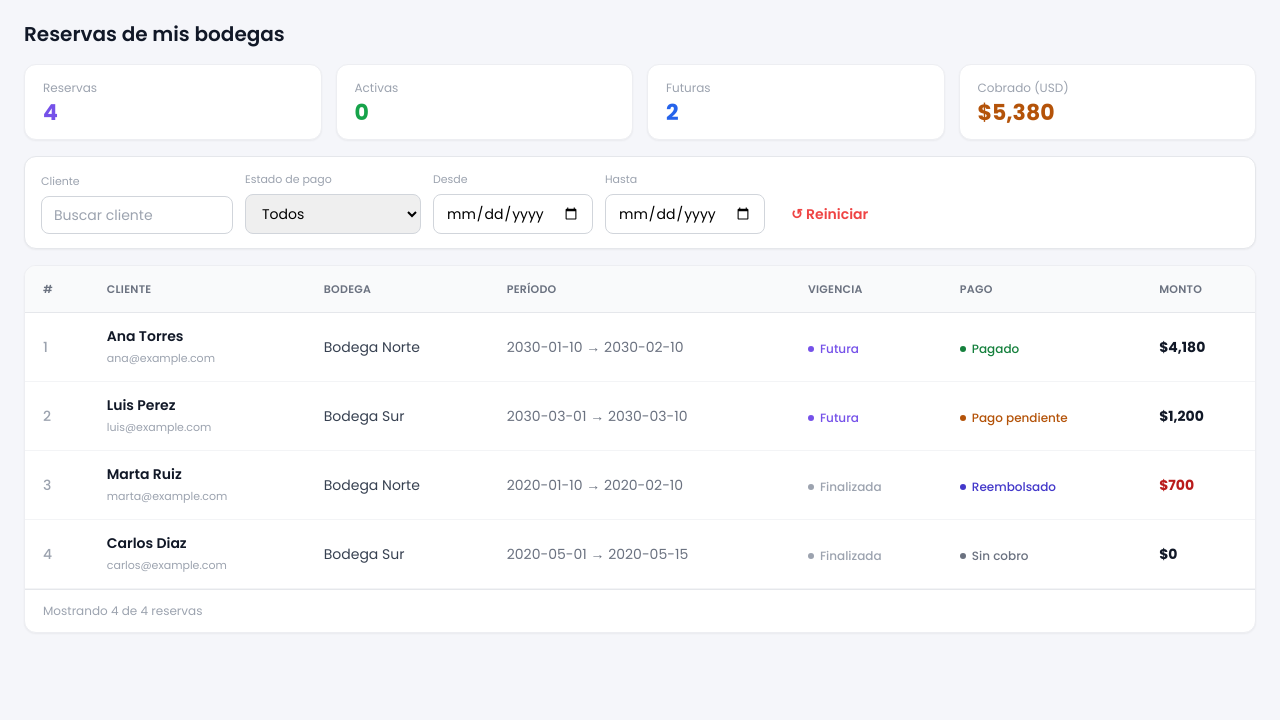
Test case: GestorReservas › opens the payment receipt with the reservation and client data
This screenshot has width=1280, height=720.
Click the text "Ana Torres" at (145, 336), box [107, 326, 184, 346]
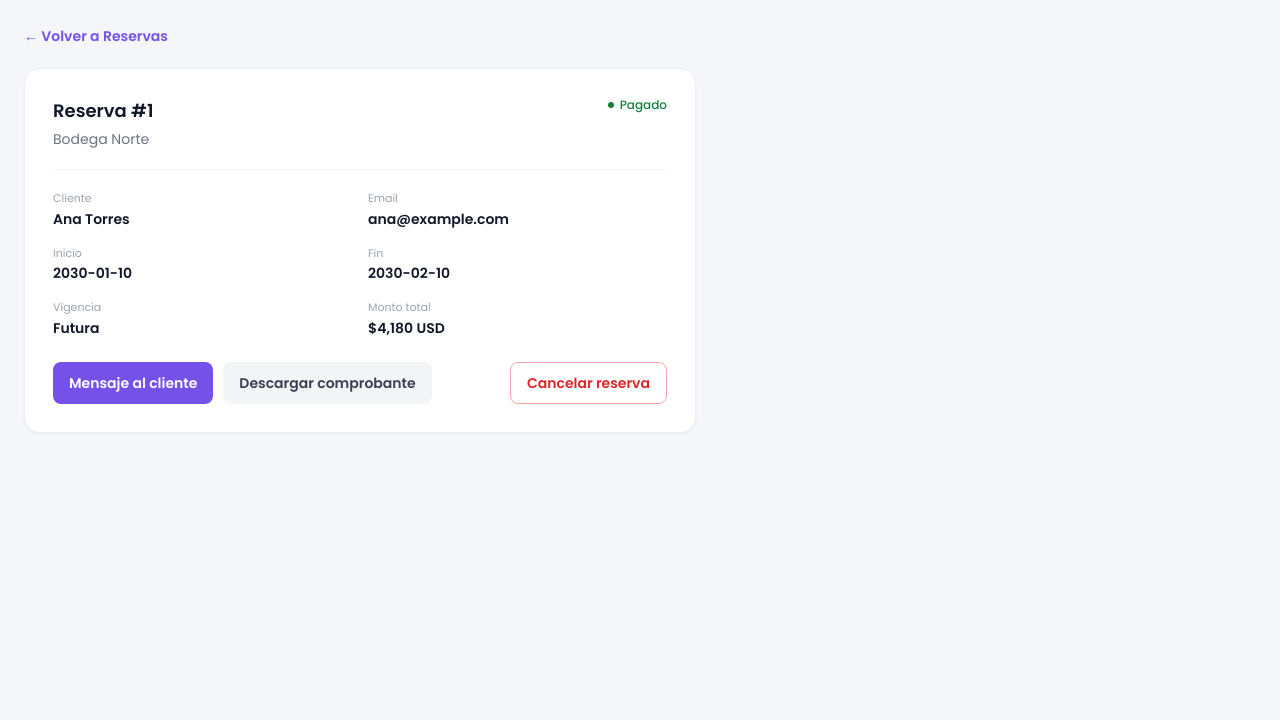
Click the button "Descargar comprobante" at (328, 382), box [223, 362, 432, 404]
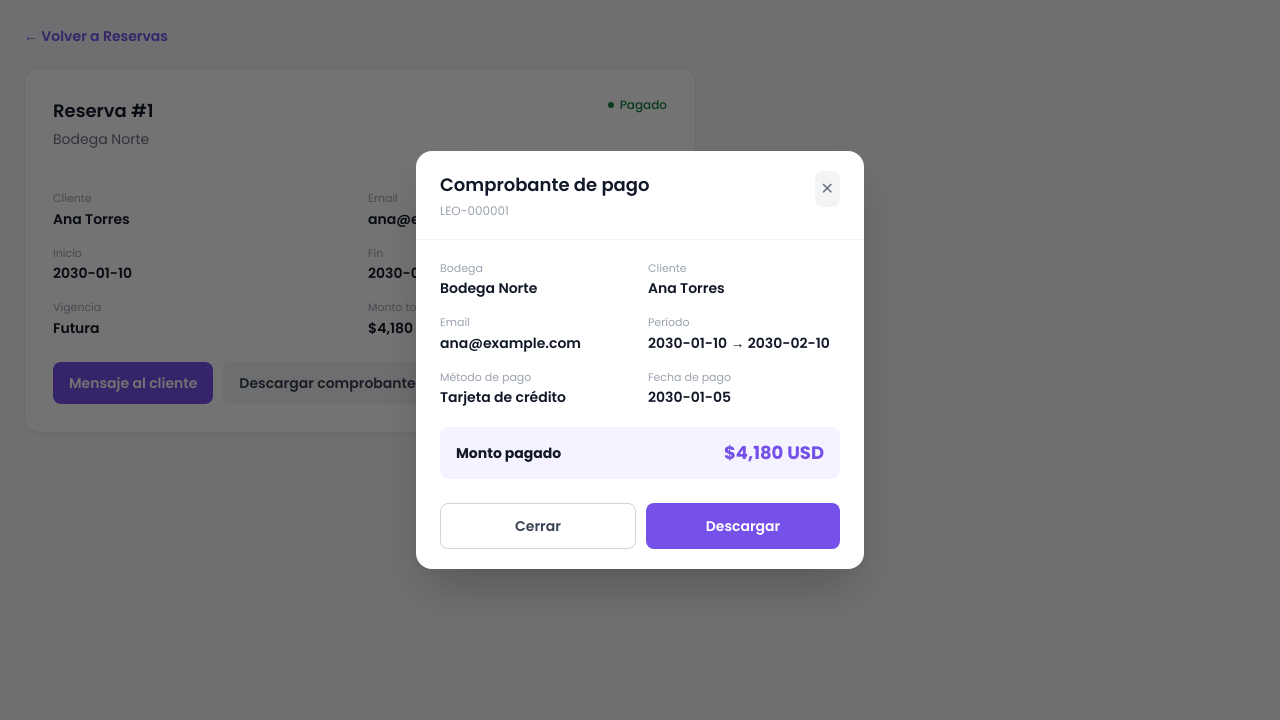
Expected: the text "LEO-000001" is shown, [440, 202, 509, 219]
Expected: the text "ana@example.com" is shown, [440, 333, 581, 353]
Expected: the text "Tarjeta de crédito" is shown, [440, 387, 566, 407]
Click the button "Cerrar" at (538, 526), box [440, 503, 636, 549]
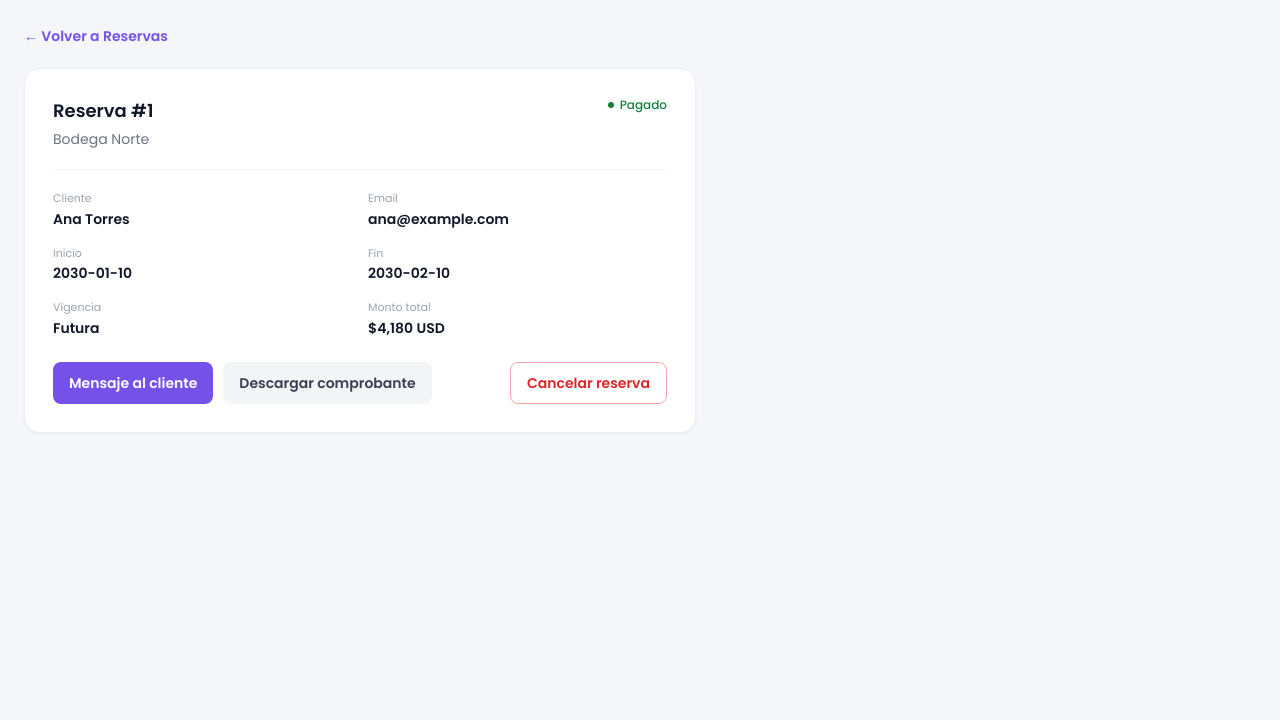
Expected: the heading "Comprobante de pago" is gone
